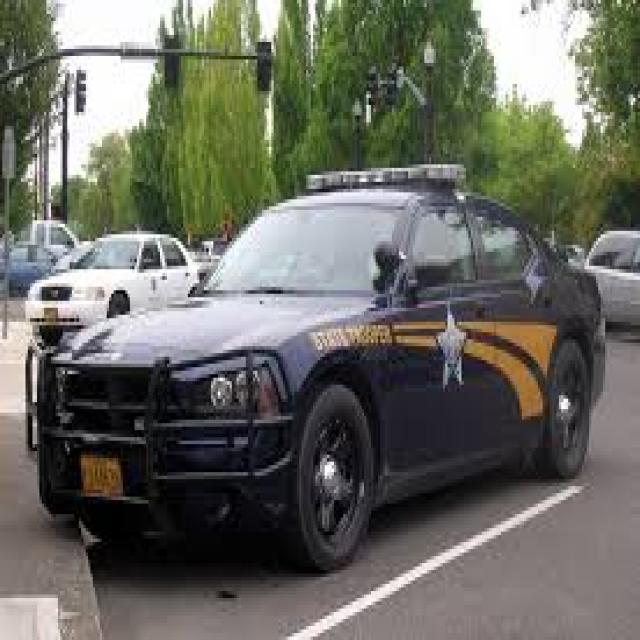cop: (27, 156, 606, 572)
